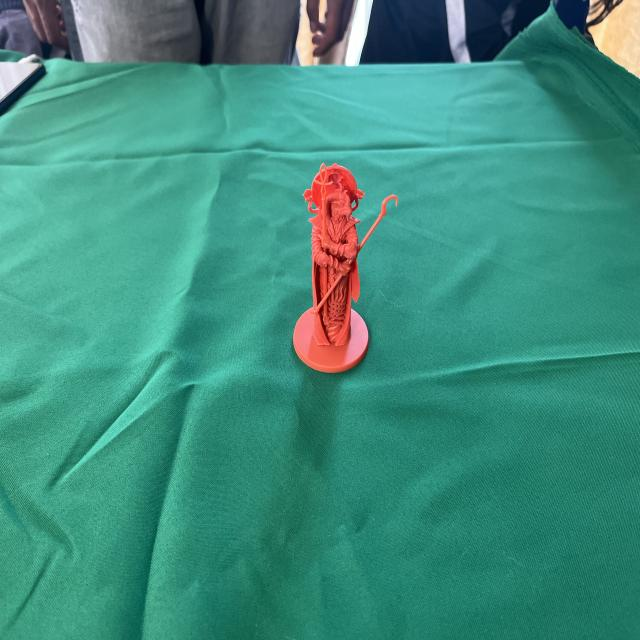amon: (290, 156, 402, 378)
